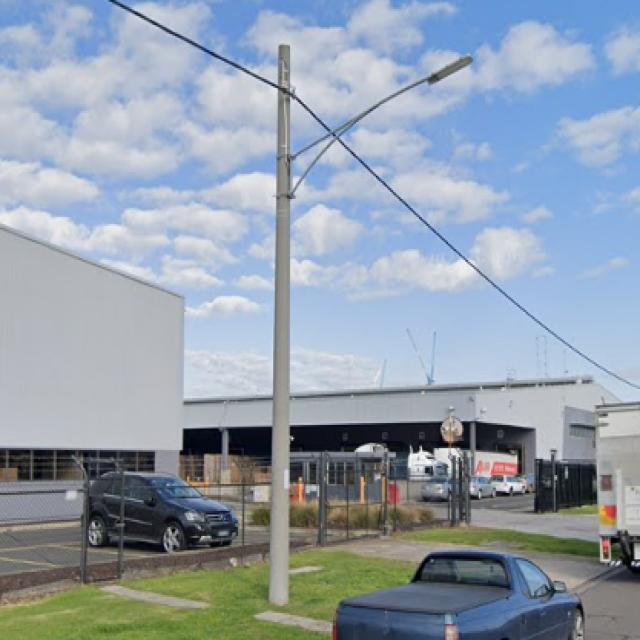concrete-pole: (269, 43, 293, 607)
streetlight: (288, 53, 476, 198)
